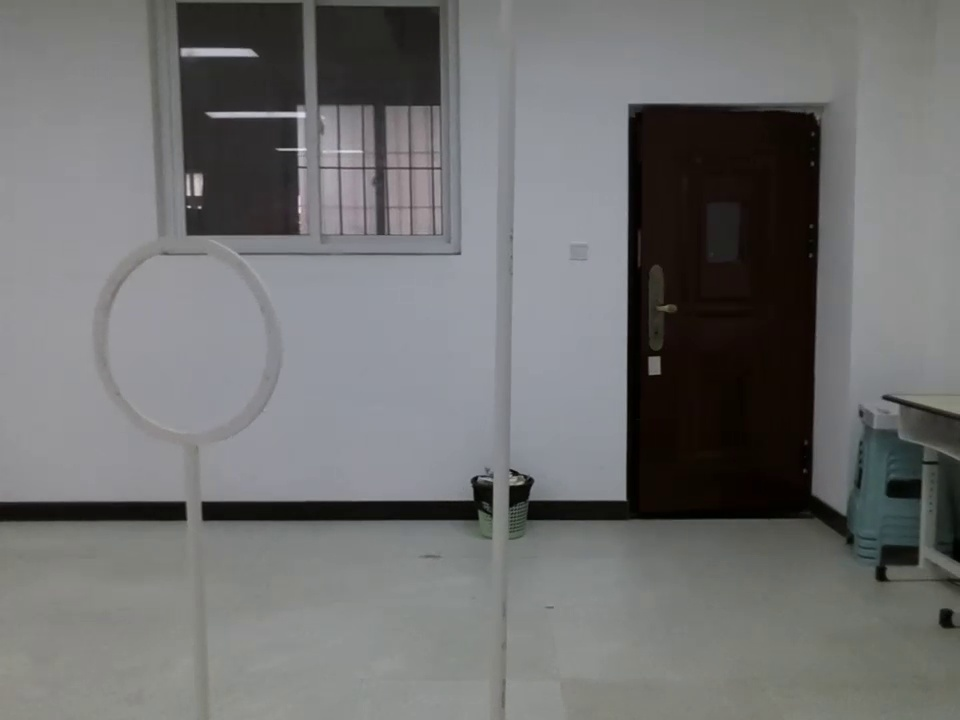gan: (489, 3, 513, 716)
quan: (70, 220, 287, 469)
